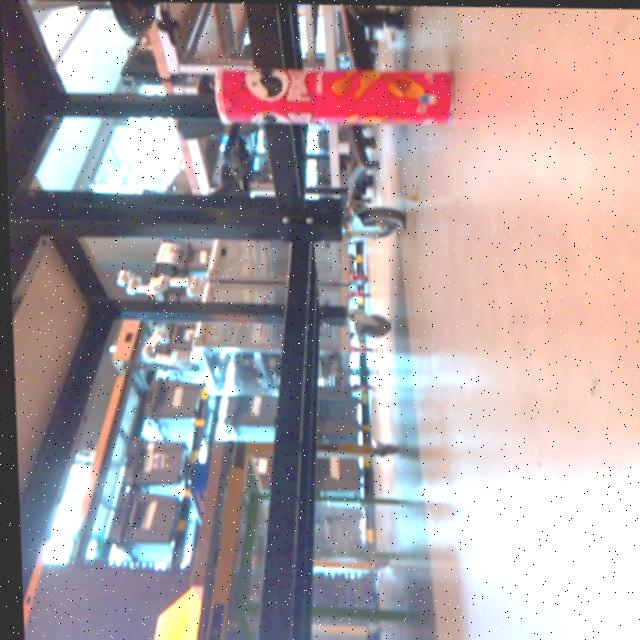redpringles: (197, 58, 495, 137)
